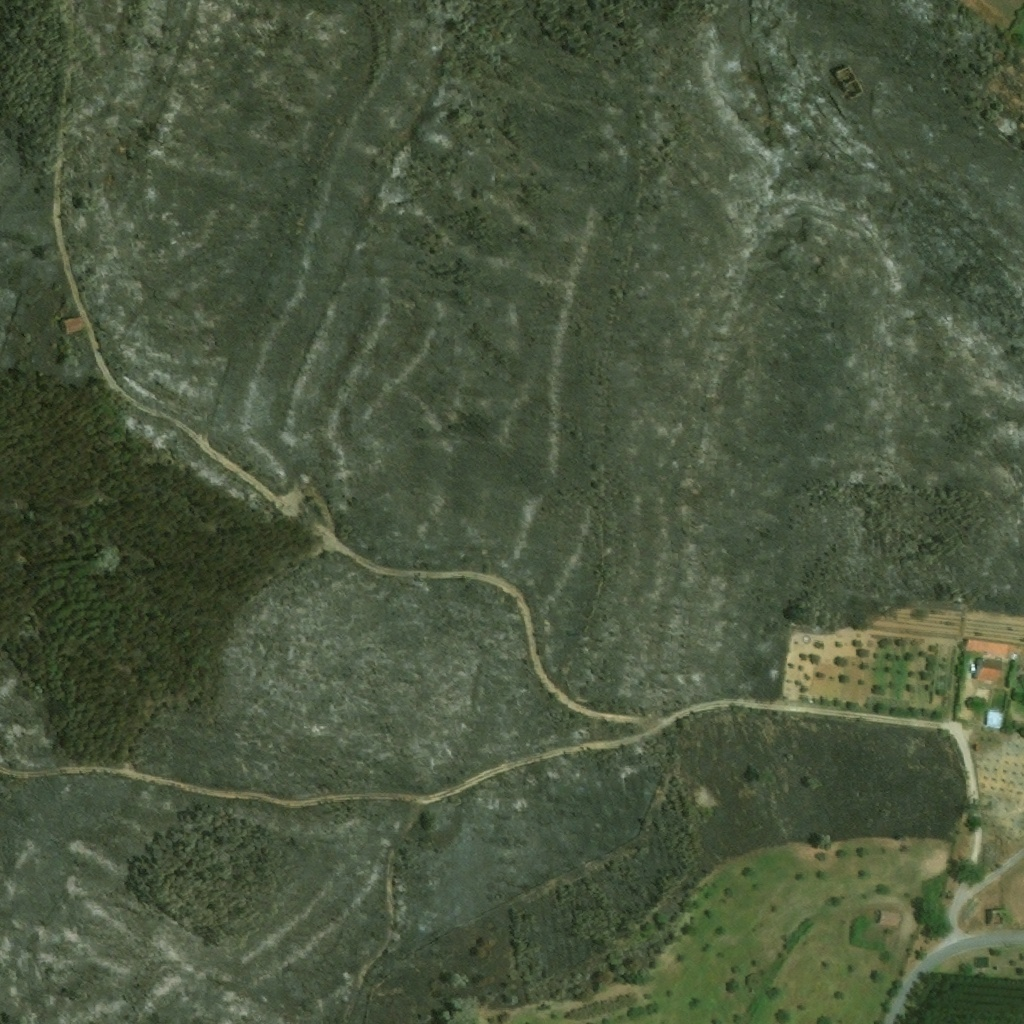0 no-damage: (965, 638, 1018, 662), (972, 658, 1002, 684), (986, 711, 1003, 728)
